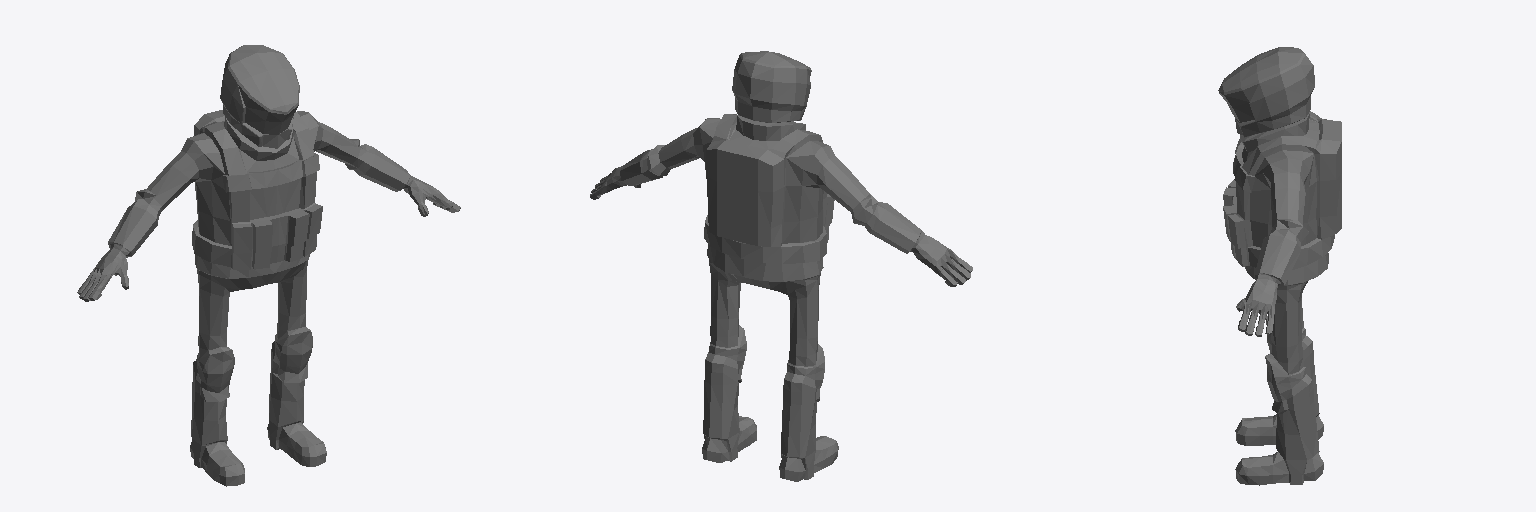
File: Squaddie.obj
The picture shows the model from 3 angles: view 1: azimuth 30°, elevation 25°; view 2: azimuth 150°, elevation 25°; view 3: azimuth 270°, elevation 25°; orthographic projection.
Visible parts, largest first — view 1: Squaddie:SquadieHelmet2; view 2: Squaddie:SquadieHelmet2; view 3: Squaddie:SquadieHelmet2.
Part boxes in pixels (x1,y1,x2,y2): Squaddie:SquadieHelmet2: (77,45,460,486); Squaddie:SquadieHelmet2: (590,51,972,481); Squaddie:SquadieHelmet2: (1218,47,1341,485).
Bounding box in the file's own units: 198 × 205 × 56.07.